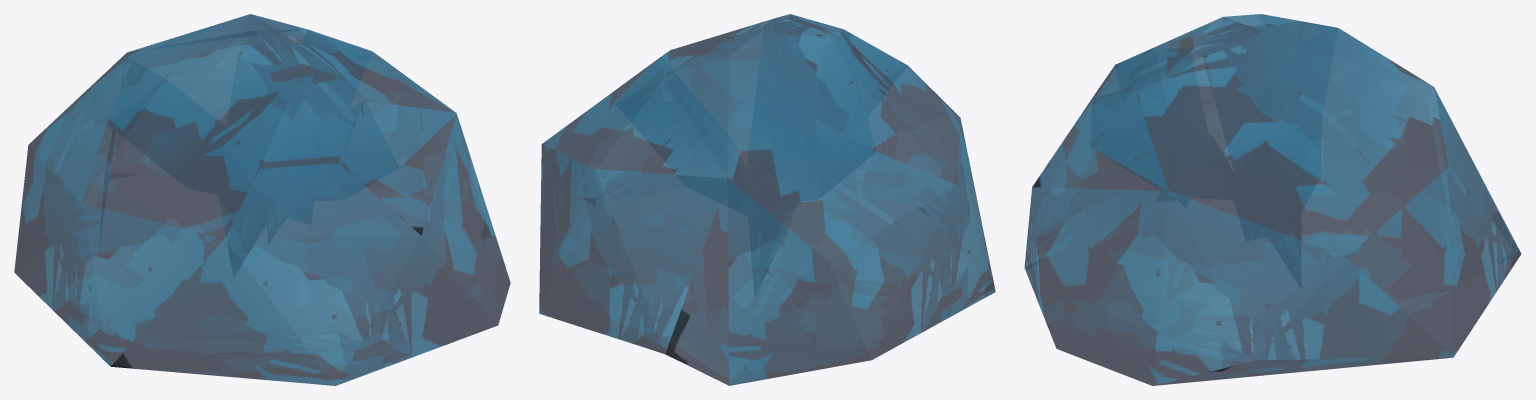
The model's file is energy_crystal_r4_v3.glb.
The picture shows the model from 3 angles, left to right: view 1: azimuth 30°, elevation 25°; view 2: azimuth 150°, elevation 25°; view 3: azimuth 270°, elevation 25°; orthographic projection. The views are drawn at different scales.
Parts seen in each view (by area): view 1: energy_crystal_lp; view 2: energy_crystal_lp; view 3: energy_crystal_lp.
Part boxes in pixels (bbox=[...]): energy_crystal_lp: bbox=[14, 14, 510, 385]; energy_crystal_lp: bbox=[539, 14, 995, 385]; energy_crystal_lp: bbox=[1024, 14, 1521, 385].
Bounding box in the file's own units: 0.7955 × 0.596 × 0.8433.
Materials: 1 (1 with a texture image).
